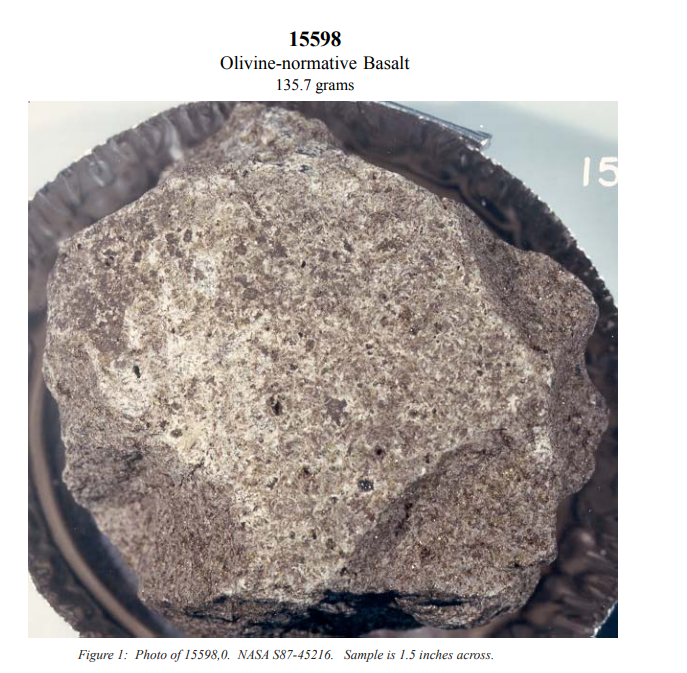Basalt: (70, 181, 553, 612)
